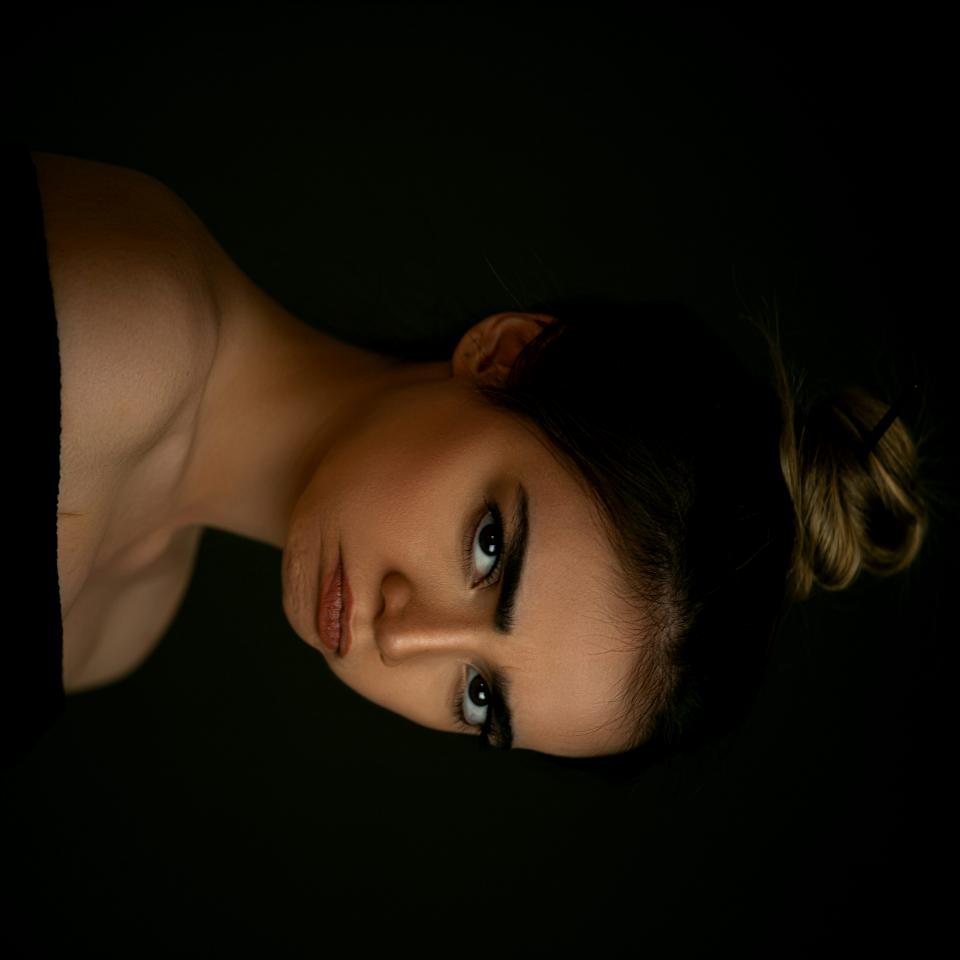Sadness: (276, 342, 627, 771)
